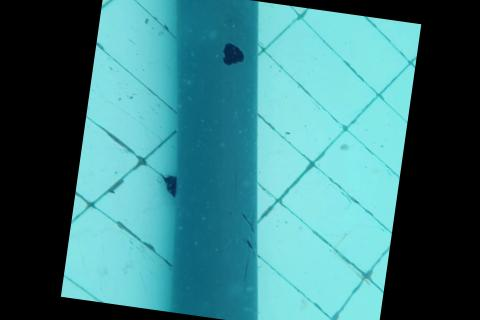kebocoran: (218, 41, 245, 67)
keretakan: (231, 201, 261, 281)
